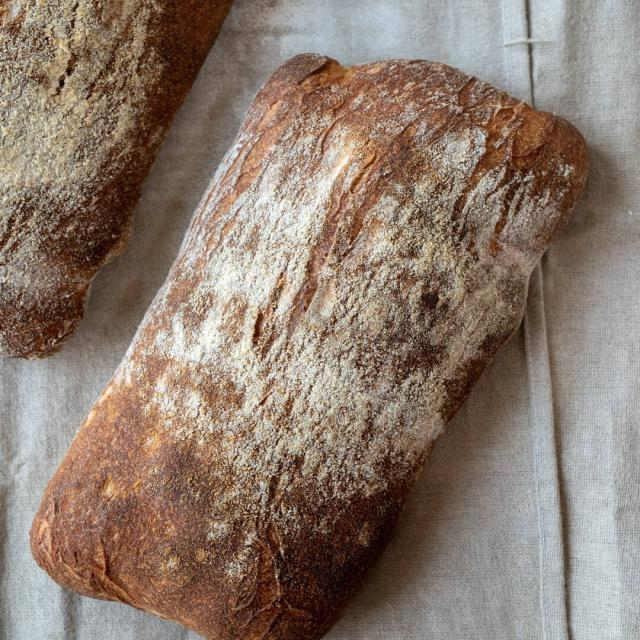Ciabatta: (32, 55, 587, 640)
